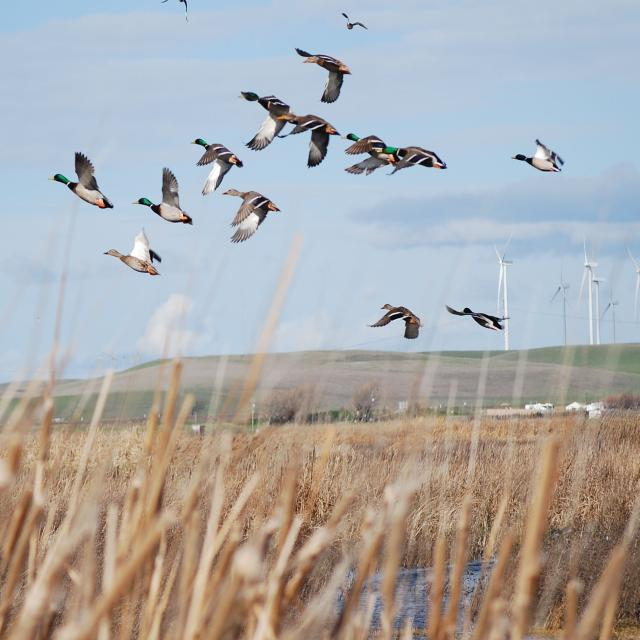bird: (48, 151, 115, 213), (135, 168, 194, 227), (238, 96, 300, 150), (289, 110, 340, 168), (296, 56, 355, 104), (193, 143, 244, 197), (105, 232, 164, 277), (229, 195, 282, 244), (344, 124, 392, 173), (512, 139, 568, 175), (371, 304, 427, 340), (391, 140, 446, 176), (445, 303, 506, 332), (338, 9, 368, 34)
